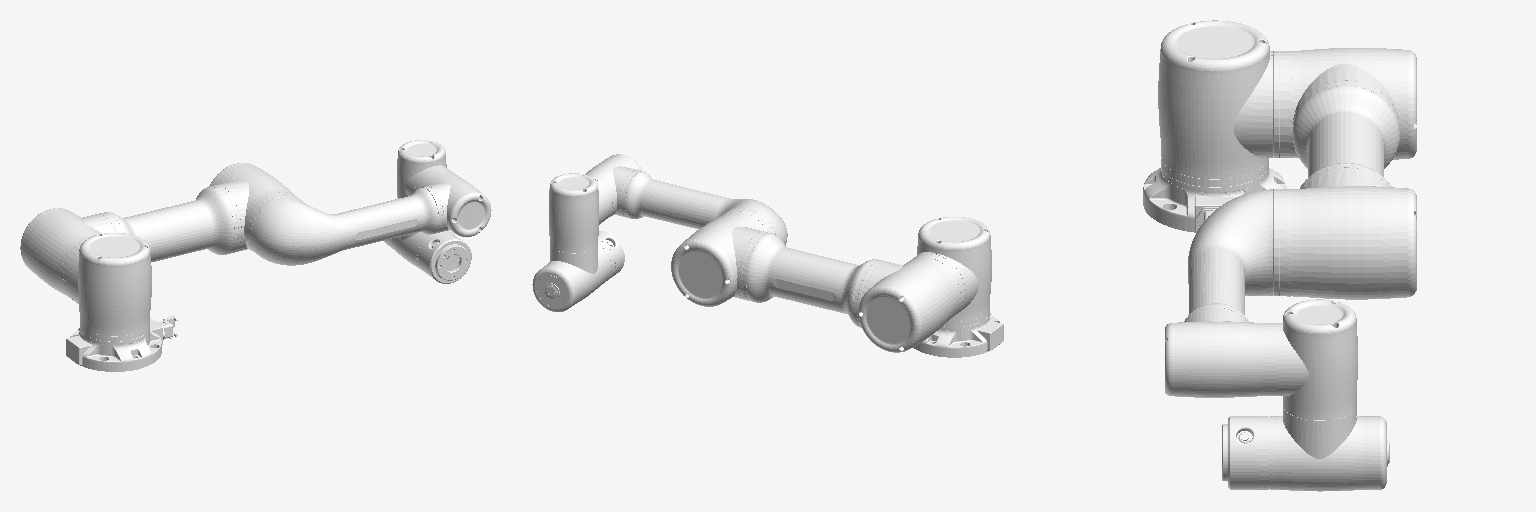
URDF robot description (Pro 7.SLDASM):
<?xml version="1.0" encoding="utf-8"?>
<!-- This URDF was automatically created by SolidWorks to URDF Exporter! Originally created by [author] ([email redacted]) 
     Commit Version: 1.6.0-4-g7f85cfe  Build Version: 1.6.7995.38578
     For more information, please see http://wiki.ros.org/sw_urdf_exporter -->
<robot
  name="Pro 7.SLDASM">
<link name="world" />
  <link
    name="base_link">
    <inertial>
      <origin
        xyz="-7.198E-05 0.0001278 0.019489"
        rpy="0 0 0" />
      <mass
        value="0.57896" />
      <inertia
        ixx="0.00082042"
        ixy="-6.0433E-06"
        ixz="2.1151E-06"
        iyy="0.00099554"
        iyz="-5.3996E-07"
        izz="0.0016763" />
    </inertial>
    <visual>
      <origin
        xyz="0 0 0"
        rpy="0 0 0" />
      <geometry>
        <mesh
          filename="package://jaka_description/meshes/jaka_pro7_meshes/base_link.STL" />
      </geometry>
      <material
        name="">
        <color
          rgba="1 1 1 1" />
      </material>
    </visual>
    <collision>
      <origin
        xyz="0 0 0"
        rpy="0 0 0" />
      <geometry>
        <mesh
          filename="package://jaka_description/meshes/jaka_pro7_meshes/base_link.STL" />
      </geometry>
    </collision>
  </link>
<joint name="fixed" type="fixed">
        <parent link="world" />
        <child link="base_link" />
    </joint>
  <link
    name="Link_1">
    <inertial>
      <origin
        xyz="7.7352E-08 0.0033244 -0.0015431"
        rpy="0 0 0" />
      <mass
        value="1.9271" />
      <inertia
        ixx="0.0056362"
        ixy="5.6056E-08"
        ixz="-3.0788E-09"
        iyy="0.0054826"
        iyz="1.6862E-06"
        izz="0.0038863" />
    </inertial>
    <visual>
      <origin
        xyz="0 0 0"
        rpy="0 0 0" />
      <geometry>
        <mesh
          filename="package://jaka_description/meshes/jaka_pro7_meshes/Link_01.STL" />
      </geometry>
      <material
        name="">
        <color
          rgba="1 1 1 1" />
      </material>
    </visual>
    <collision>
      <origin
        xyz="0 0 0"
        rpy="0 0 0" />
      <geometry>
        <mesh
          filename="package://jaka_description/meshes/jaka_pro7_meshes/Link_01.STL" />
      </geometry>
    </collision>
  </link>
  <joint
    name="joint_1"
    type="revolute">
    <origin
      xyz="0 0 0.12015"
      rpy="0 0 0" />
    <parent
      link="base_link" />
    <child
      link="Link_1" />
    <axis
      xyz="0 0 -1" />
    <limit
      lower="-6.28"
      upper="6.28"
      effort="2000"
      velocity="1.57" />
  </joint>
  <link
    name="Link_2">
    <inertial>
      <origin
        xyz="0.18 -2.0694E-07 -0.14305"
        rpy="0 0 0" />
      <mass
        value="5.4599" />
      <inertia
        ixx="0.012906"
        ixy="-6.0295E-07"
        ixz="-1.7533E-07"
        iyy="0.14159"
        iyz="-5.1725E-08"
        izz="0.13808" />
    </inertial>
    <visual>
      <origin
        xyz="0 0 0"
        rpy="0 0 0" />
      <geometry>
        <mesh
          filename="package://jaka_description/meshes/jaka_pro7_meshes/Link_02.STL" />
      </geometry>
      <material
        name="">
        <color
          rgba="1 1 1 1" />
      </material>
    </visual>
    <collision>
      <origin
        xyz="0 0 0"
        rpy="0 0 0" />
      <geometry>
        <mesh
          filename="package://jaka_description/meshes/jaka_pro7_meshes/Link_02.STL" />
      </geometry>
    </collision>
  </link>
  <joint
    name="joint_2"
    type="revolute">
    <origin
      xyz="0 0 0"
      rpy="1.5708 0 0" />
    <parent
      link="Link_1" />
    <child
      link="Link_2" />
    <axis
      xyz="0 0 1" />
    <limit
      lower="-1.48"
      upper="4.62"
      effort="8000"
      velocity="1.57" />
  </joint>
  <link
    name="Link_3">
    <inertial>
      <origin
        xyz="0.15498 -9.5539E-07 -0.01264"
        rpy="0 0 0" />
      <mass
        value="2.1077" />
      <inertia
        ixx="0.0026616"
        ixy="-2.7923E-07"
        ixz="-0.002325"
        iyy="0.036077"
        iyz="1.0708E-08"
        izz="0.035425" />
    </inertial>
    <visual>
      <origin
        xyz="0 0 0"
        rpy="0 0 0" />
      <geometry>
        <mesh
          filename="package://jaka_description/meshes/jaka_pro7_meshes/Link_03.STL" />
      </geometry>
      <material
        name="">
        <color
          rgba="1 1 1 1" />
      </material>
    </visual>
    <collision>
      <origin
        xyz="0 0 0"
        rpy="0 0 0" />
      <geometry>
        <mesh
          filename="package://jaka_description/meshes/jaka_pro7_meshes/Link_03.STL" />
      </geometry>
    </collision>
  </link>
  <joint
    name="joint_3"
    type="revolute">
    <origin
      xyz="0.36 0 0"
      rpy="0 0 0" />
    <parent
      link="Link_2" />
    <child
      link="Link_3" />
    <axis
      xyz="0 0 1" />
    <limit
      lower="-3.05"
      upper="3.05"
      effort="8000"
      velocity="1.57" />
  </joint>
  <link
    name="Link_4">
    <inertial>
      <origin
        xyz="-1.9182E-08 -0.0059513 0.0026796"
        rpy="0 0 0" />
      <mass
        value="0.70529" />
      <inertia
        ixx="0.0011712"
        ixy="-8.9212E-10"
        ixz="2.4435E-09"
        iyy="0.00066333"
        iyz="-1.0904E-05"
        izz="0.0011346" />
    </inertial>
    <visual>
      <origin
        xyz="0 0 0"
        rpy="0 0 0" />
      <geometry>
        <mesh
          filename="package://jaka_description/meshes/jaka_pro7_meshes/Link_04.STL" />
      </geometry>
      <material
        name="">
        <color
          rgba="1 1 1 1" />
      </material>
    </visual>
    <collision>
      <origin
        xyz="0 0 0"
        rpy="0 0 0" />
      <geometry>
        <mesh
          filename="package://jaka_description/meshes/jaka_pro7_meshes/Link_04.STL" />
      </geometry>
    </collision>
  </link>
  <joint
    name="joint_4"
    type="revolute">
    <origin
      xyz="0.3035 0 -0.11502"
      rpy="0 0 0" />
    <parent
      link="Link_3" />
    <child
      link="Link_4" />
    <axis
      xyz="0 0 1" />
    <limit
      lower="-1.48"
      upper="4.62"
      effort="2000"
      velocity="1.57" />
  </joint>
  <link
    name="Link_5">
    <inertial>
      <origin
        xyz="-3.0808E-07 -0.0024284 -0.0023582"
        rpy="0 0 0" />
      <mass
        value="0.80153" />
      <inertia
        ixx="0.0016251"
        ixy="-1.8569E-09"
        ixz="-2.0871E-08"
        iyy="0.00073892"
        iyz="4.9308E-06"
        izz="0.0015879" />
    </inertial>
    <visual>
      <origin
        xyz="0 0 0"
        rpy="0 0 0" />
      <geometry>
        <mesh
          filename="package://jaka_description/meshes/jaka_pro7_meshes/Link_05.STL" />
      </geometry>
      <material
        name="">
        <color
          rgba="1 1 1 1" />
      </material>
    </visual>
    <collision>
      <origin
        xyz="0 0 0"
        rpy="0 0 0" />
      <geometry>
        <mesh
          filename="package://jaka_description/meshes/jaka_pro7_meshes/Link_05.STL" />
      </geometry>
    </collision>
  </link>
  <joint
    name="joint_5"
    type="revolute">
    <origin
      xyz="0 -0.1135 0"
      rpy="1.5708 0 0" />
    <parent
      link="Link_4" />
    <child
      link="Link_5" />
    <axis
      xyz="0 0 -1" />
    <limit
      lower="-6.28"
      upper="6.28"
      effort="3000"
      velocity="1.57" />
  </joint>
  <link
    name="Link_6">
    <inertial>
      <origin
        xyz="-0.00022834 4.5099E-05 -0.021175"
        rpy="0 0 0" />
      <mass
        value="0.17604" />
      <inertia
        ixx="8.7034E-05"
        ixy="-9.3657E-08"
        ixz="-8.3709E-08"
        iyy="9.0563E-05"
        iyz="-2.3589E-08"
        izz="0.00013857" />
    </inertial>
    <visual>
      <origin
        xyz="0 0 0"
        rpy="0 0 0" />
      <geometry>
        <mesh
          filename="package://jaka_description/meshes/jaka_pro7_meshes/Link_06.STL" />
      </geometry>
      <material
        name="">
        <color
          rgba="1 1 1 1" />
      </material>
    </visual>
    <collision>
      <origin
        xyz="0 0 0"
        rpy="0 0 0" />
      <geometry>
        <mesh
          filename="package://jaka_description/meshes/jaka_pro7_meshes/Link_06.STL" />
      </geometry>
    </collision>
  </link>
  <joint
    name="joint_6"
    type="revolute">
    <origin
      xyz="0 0.107 0"
      rpy="-1.5708 0 0" />
    <parent
      link="Link_5" />
    <child
      link="Link_6" />
    <axis
      xyz="0 0 -1" />
    <limit
      lower="-6.28"
      upper="6.28"
      effort="1000"
      velocity="1.57" />
  </joint>


<transmission name="trans_joint_1">
        <type>transmission_interface/SimpleTransmission</type>
        <joint name="joint_1">
            <hardwareInterface>hardware_interface/PositionJointInterface</hardwareInterface>
        </joint>
        <actuator name="joint_1_motor">
            <hardwareInterface>hardware_interface/PositionJointInterface</hardwareInterface>
            <mechanicalReduction>1</mechanicalReduction>
        </actuator>
    </transmission>
    <transmission name="trans_joint_2">
        <type>transmission_interface/SimpleTransmission</type>
        <joint name="joint_2">
            <hardwareInterface>hardware_interface/PositionJointInterface</hardwareInterface>
        </joint>
        <actuator name="joint_2_motor">
            <hardwareInterface>hardware_interface/PositionJointInterface</hardwareInterface>
            <mechanicalReduction>1</mechanicalReduction>
        </actuator>
    </transmission>
    <transmission name="trans_joint_3">
        <type>transmission_interface/SimpleTransmission</type>
        <joint name="joint_3">
            <hardwareInterface>hardware_interface/PositionJointInterface</hardwareInterface>
        </joint>
        <actuator name="joint_3_motor">
            <hardwareInterface>hardware_interface/PositionJointInterface</hardwareInterface>
            <mechanicalReduction>1</mechanicalReduction>
        </actuator>
    </transmission>
    <transmission name="trans_joint_4">
        <type>transmission_interface/SimpleTransmission</type>
        <joint name="joint_4">
            <hardwareInterface>hardware_interface/PositionJointInterface</hardwareInterface>
        </joint>
        <actuator name="joint_4_motor">
            <hardwareInterface>hardware_interface/PositionJointInterface</hardwareInterface>
            <mechanicalReduction>1</mechanicalReduction>
        </actuator>
    </transmission>
    <transmission name="trans_joint_5">
        <type>transmission_interface/SimpleTransmission</type>
        <joint name="joint_5">
            <hardwareInterface>hardware_interface/PositionJointInterface</hardwareInterface>
        </joint>
        <actuator name="joint_5_motor">
            <hardwareInterface>hardware_interface/PositionJointInterface</hardwareInterface>
            <mechanicalReduction>1</mechanicalReduction>
        </actuator>
    </transmission>
    <transmission name="trans_joint_6">
        <type>transmission_interface/SimpleTransmission</type>
        <joint name="joint_6">
            <hardwareInterface>hardware_interface/PositionJointInterface</hardwareInterface>
        </joint>
        <actuator name="joint_6_motor">
            <hardwareInterface>hardware_interface/PositionJointInterface</hardwareInterface>
            <mechanicalReduction>1</mechanicalReduction>
        </actuator>
    </transmission>
<gazebo>
        <plugin name="gazebo_ros_control" filename="libgazebo_ros_control.so">
            <robotNamespace>/</robotNamespace>
        </plugin>
    </gazebo>
</robot>

--- What the picture shows (computed from the rendered views, not written in the file) ---
3 views of the same robot in one strip: view 1: azimuth 30°, elevation 25°; view 2: azimuth 150°, elevation 25°; view 3: azimuth 270°, elevation 25° (orthographic).
Model Pro 7.SLDASM with 8 links and 7 joints (6 revolute, 1 fixed), rooted at world, posed all joints at 0.
Visible links, largest first — view 1: Link_2, Link_3, Link_1, base_link, Link_6, Link_4, Link_5; view 2: Link_2, Link_3, Link_1, Link_4, Link_5, base_link; view 3: Link_2, Link_1, Link_3, Link_4, Link_5, base_link, Link_6.
Link boxes in pixels (x1,y1,x2,y2): Link_2: (20, 163, 297, 300); Link_3: (251, 167, 491, 265); Link_1: (66, 233, 151, 344); base_link: (66, 316, 177, 371); Link_6: (421, 233, 471, 283); Link_4: (397, 140, 447, 198); Link_5: (384, 230, 454, 273); Link_2: (671, 208, 965, 352); Link_3: (585, 154, 787, 245); Link_1: (917, 217, 991, 330); Link_4: (549, 173, 608, 259); Link_5: (532, 239, 615, 311); base_link: (913, 313, 1003, 357); Link_2: (1273, 48, 1416, 299); Link_1: (1158, 20, 1272, 192); Link_3: (1165, 189, 1277, 397); Link_4: (1278, 299, 1357, 430); Link_5: (1258, 416, 1389, 491); base_link: (1143, 168, 1286, 232); Link_6: (1222, 416, 1257, 489).
Bounding box of the posed robot: 0.7877 × 0.3007 × 0.2332 m (x, y, z).
Meshes: 7 distinct files referenced, 7 mesh visuals loaded (7 binary STL).
